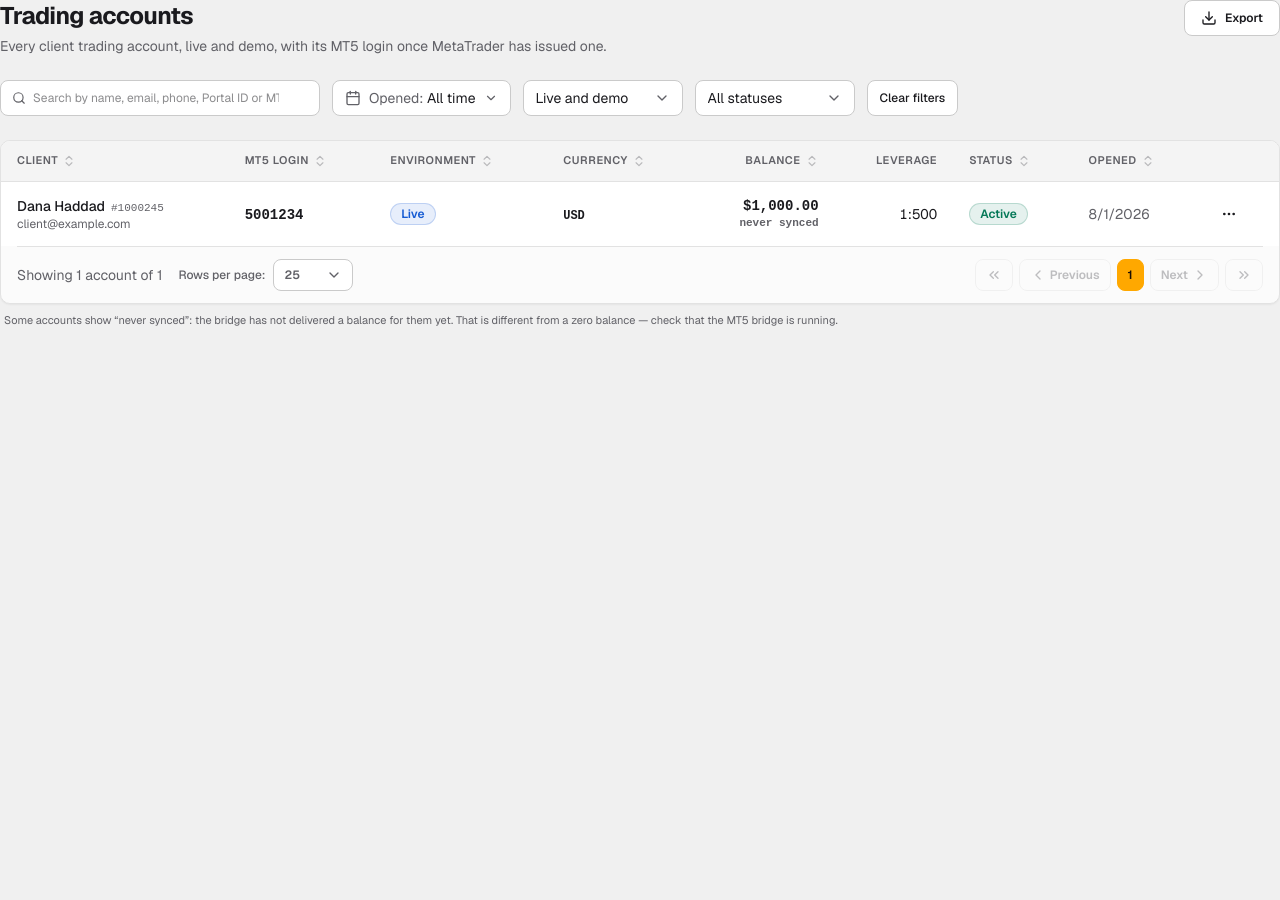
moving money on a trading account › says the money is in the wallet when the transfer leg did not complete
The image size is (1280, 900).
Expected: the text "client@example.com" is shown, [17,216,131,232]
Click the button named "actions for account".
click(1229, 214)  # box [1213,198,1245,230]
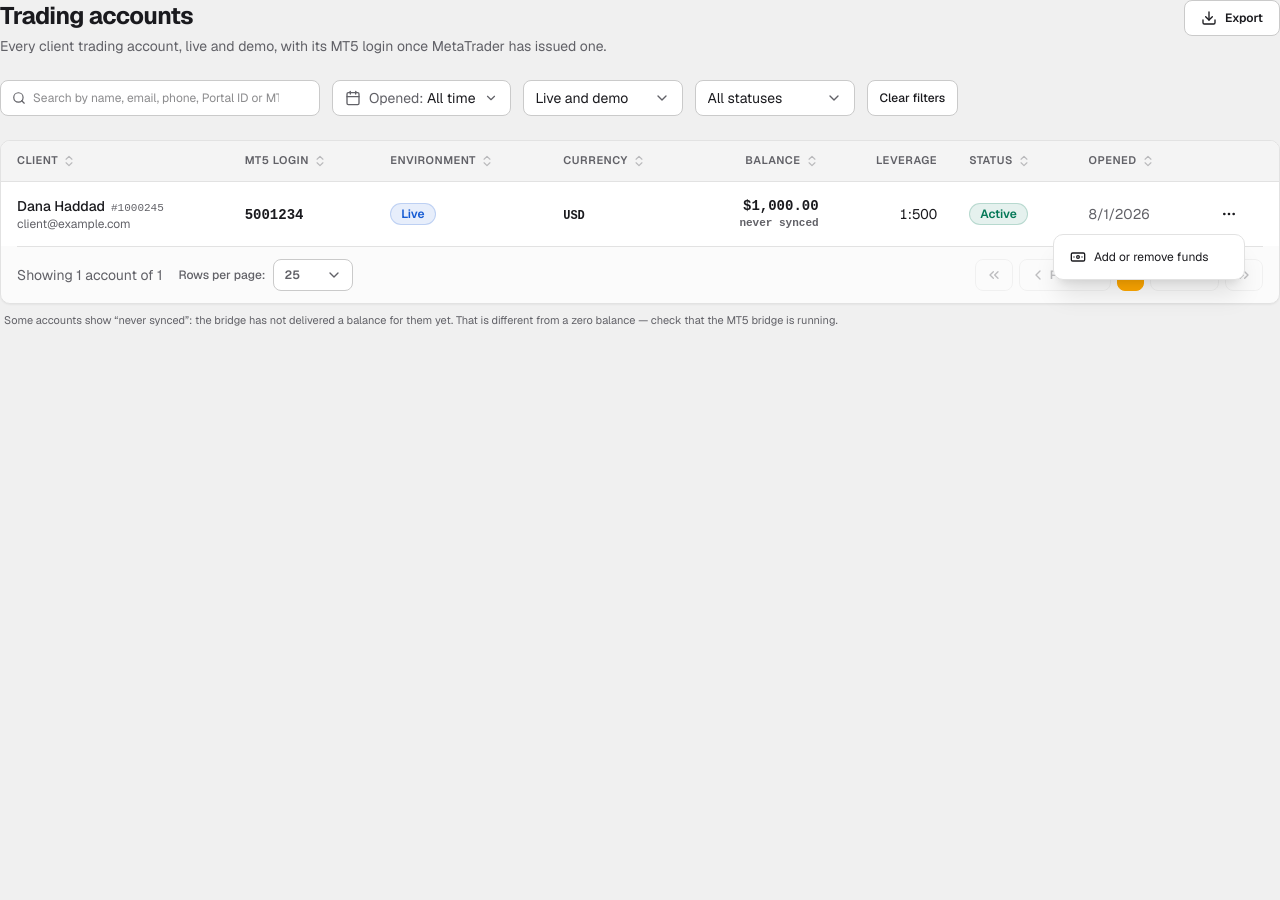
Click the menu item "Add or remove funds".
click(1139, 257)  # box [1070,249,1208,265]
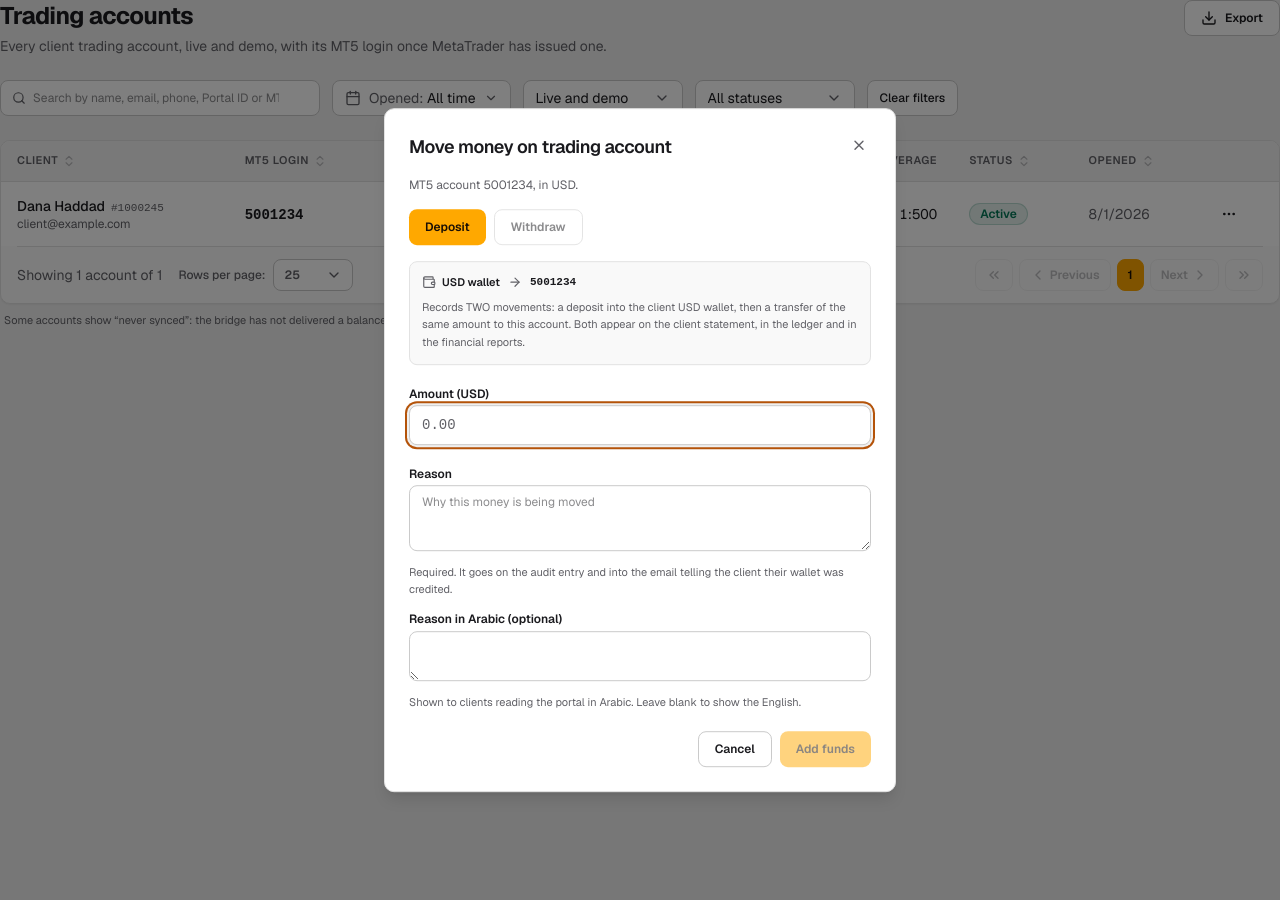
Type "250" into the field labelled "Amount (USD)".
click(640, 425); type("250")  # box [409,405,871,445]
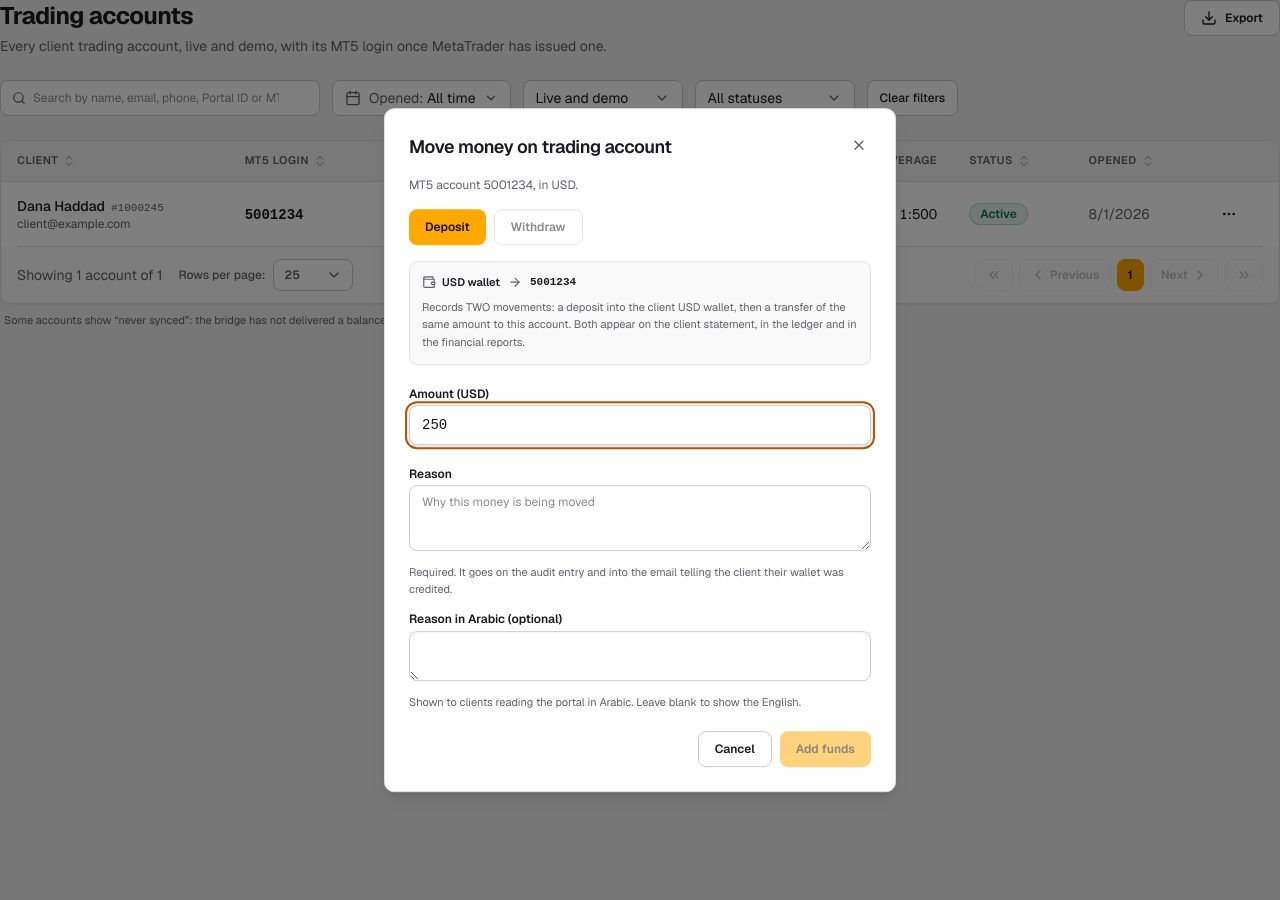
Type "Off-rail wire received" into the text box labelled "Reason".
click(640, 518); type("Off-rail wire received")  # box [409,485,871,551]
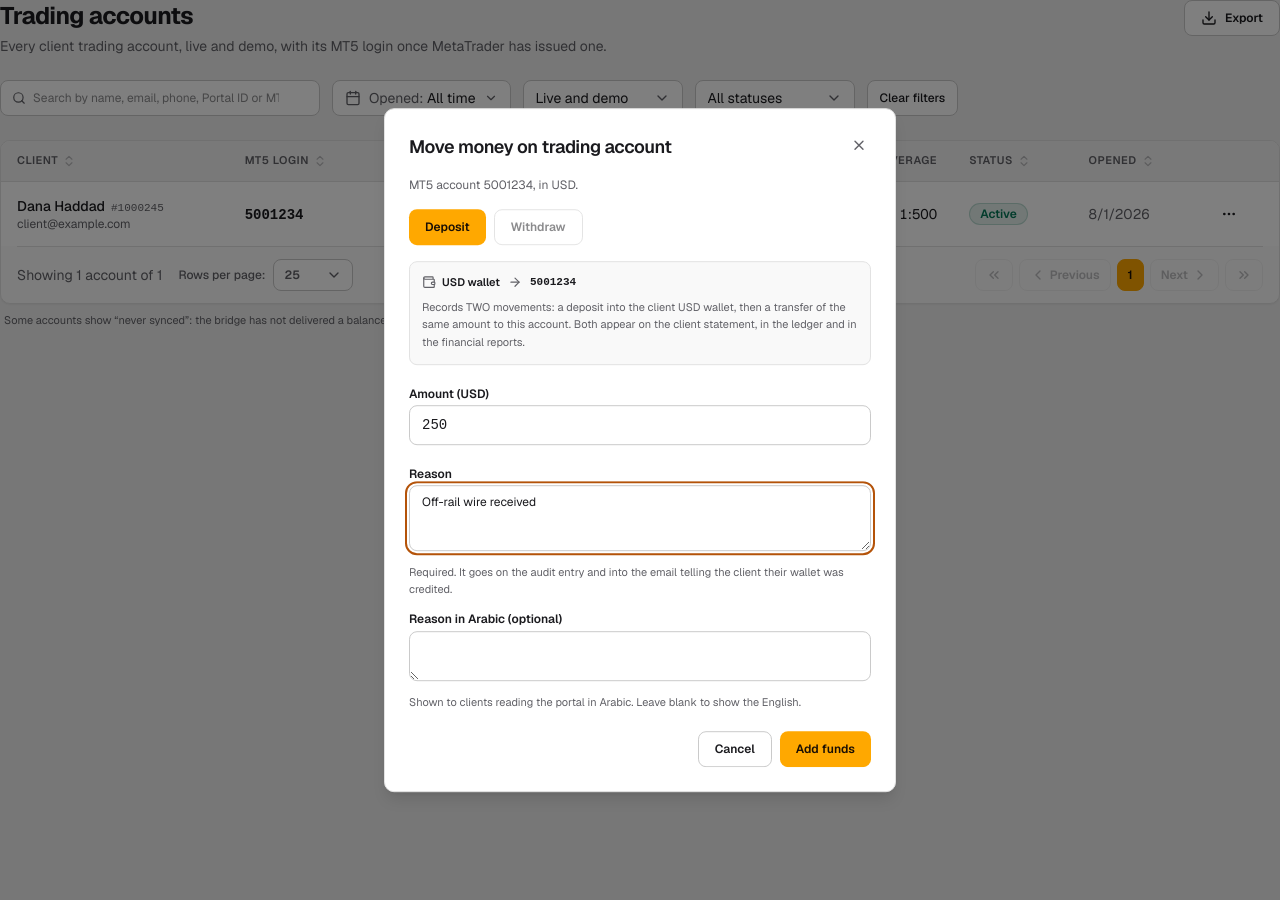
Click the button "Add funds".
click(825, 749)  # box [780,731,871,767]
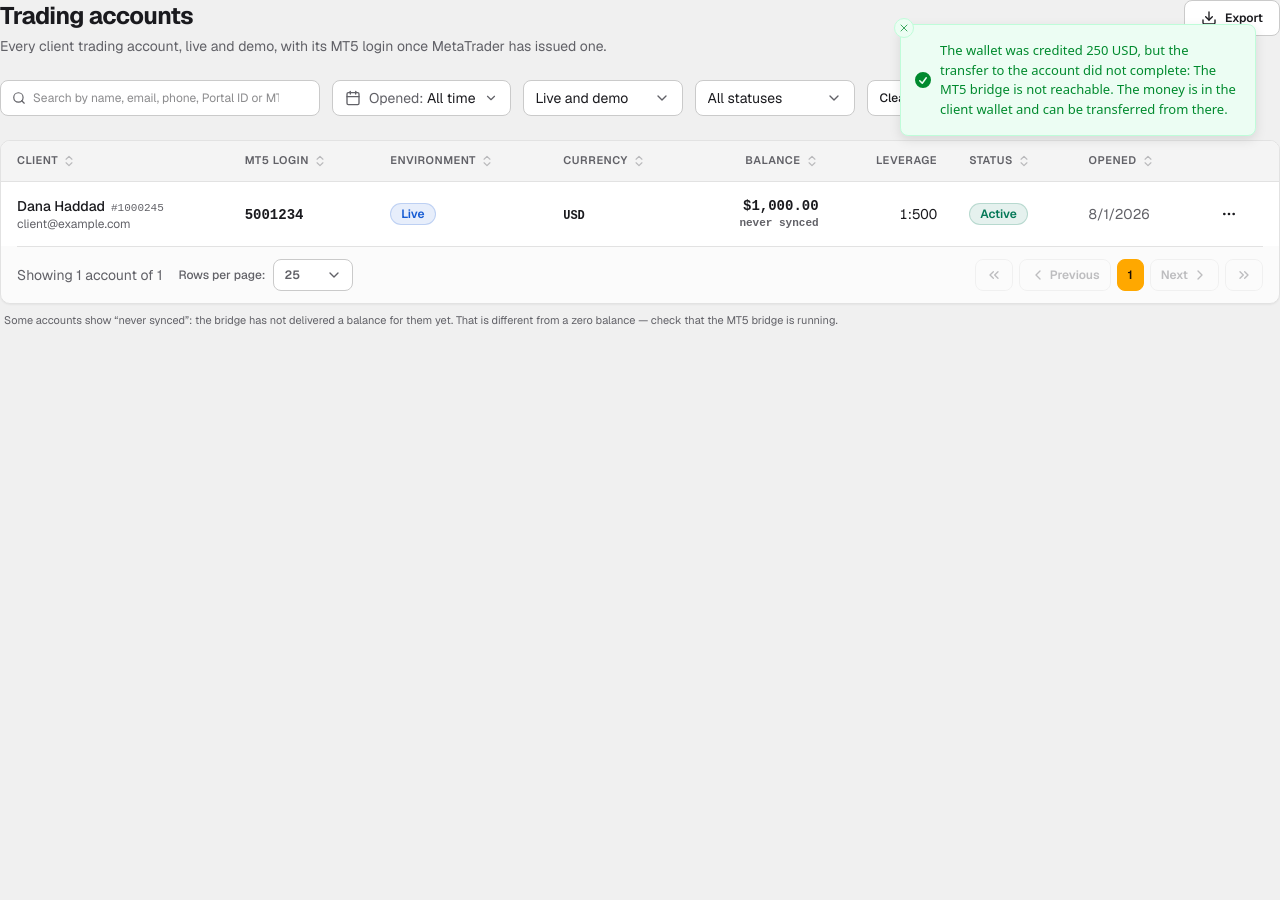
Expected: the text "bridge is not reachable" is shown, [940,41,1236,118]
